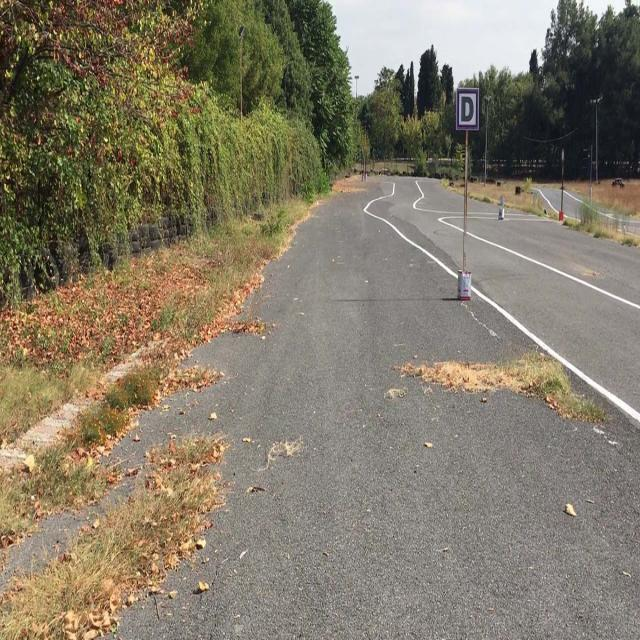durak: (456, 88, 478, 130)
